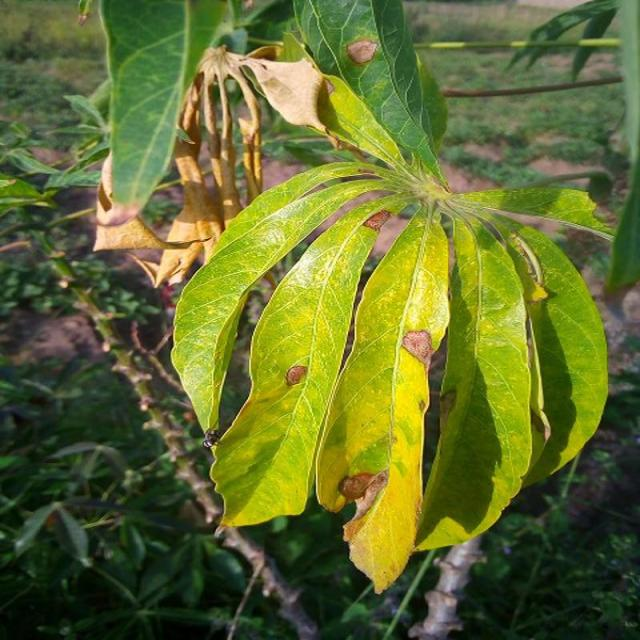cassava leaf: (167, 3, 613, 594), (206, 201, 385, 530), (314, 205, 450, 595), (412, 207, 533, 552), (503, 221, 609, 488)
